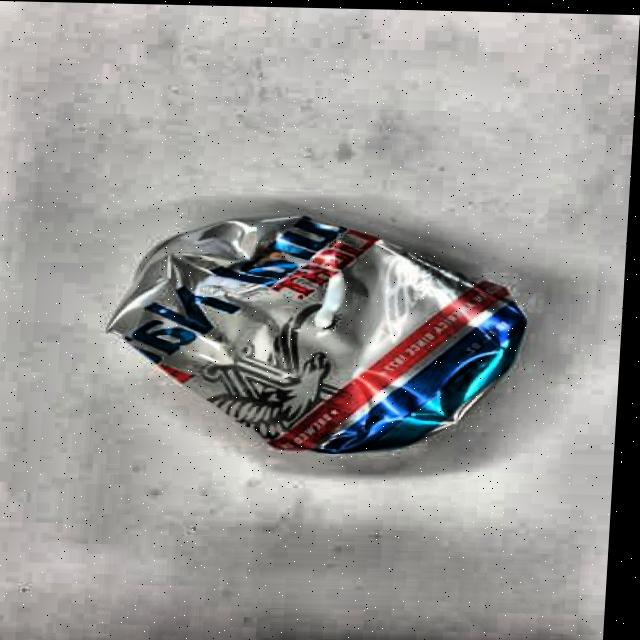metal: (99, 210, 536, 460)
